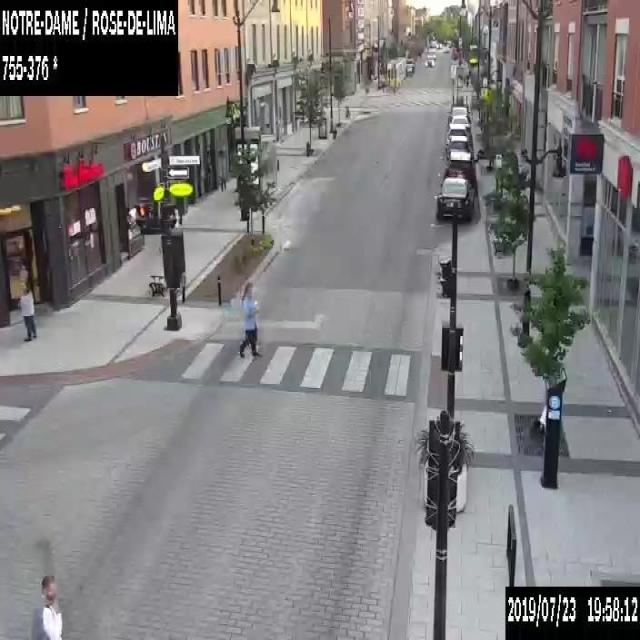pedestrian: (30, 573, 62, 639), (239, 280, 259, 357), (19, 286, 35, 342), (216, 144, 226, 191)
vehicle: (435, 176, 474, 222), (442, 150, 477, 184), (445, 135, 470, 156), (447, 105, 470, 124), (446, 122, 468, 141), (449, 116, 470, 132), (424, 54, 434, 65), (406, 63, 414, 74), (427, 49, 435, 58), (406, 58, 414, 63), (435, 42, 441, 47), (442, 48, 448, 52)
